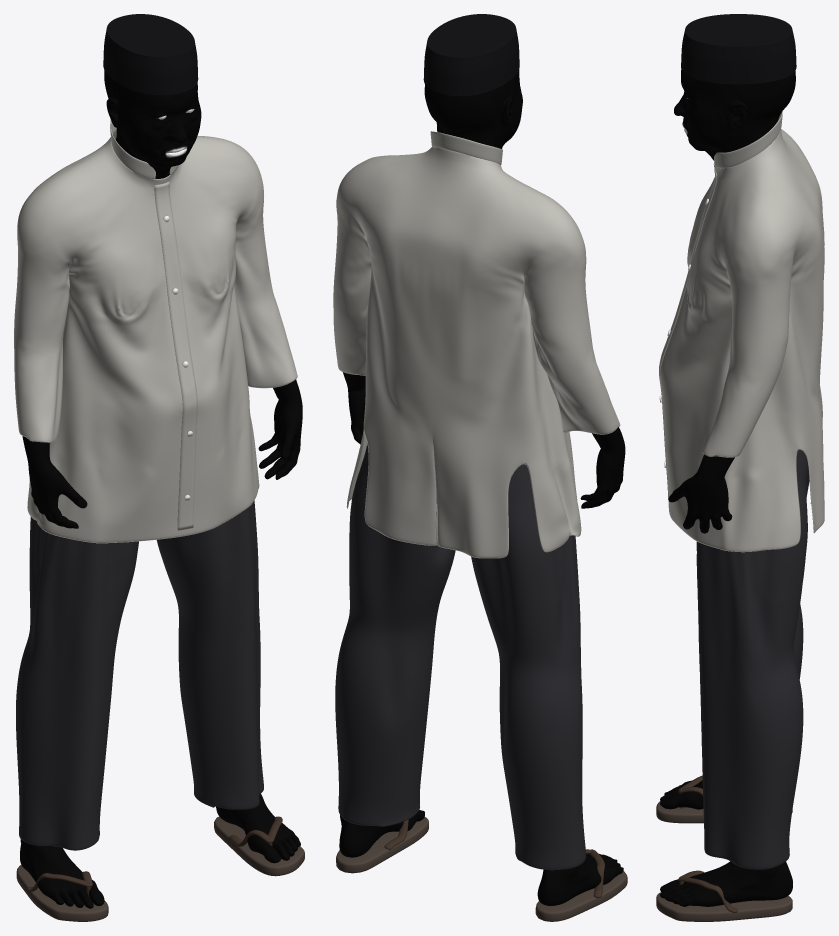
Rendered from sobari.glb.
3 renders of one model, left to right at view 1: azimuth 30°, elevation 25°; view 2: azimuth 150°, elevation 25°; view 3: azimuth 270°, elevation 25°, orthographic.
Visible parts, largest first — view 1: Kemeja, Celana, Badan, Peci, Plaket, SandalAlas, SandalAlas.001, Kerah; view 2: Kemeja, Celana, Badan, Peci, SandalAlas, SandalAlas.001, Kerah; view 3: Kemeja, Celana, Badan, Peci, SandalAlas, Kerah, Plaket, SandalAlas.001, SandalTali.
Part boxes in pixels (x1,y1,x2,y2): Kemeja: (14, 128, 297, 543); Celana: (16, 500, 263, 850); Badan: (20, 70, 302, 908); Peci: (103, 14, 198, 95); Plaket: (154, 181, 197, 530); SandalAlas: (214, 816, 304, 876); SandalAlas.001: (16, 865, 108, 921); Kerah: (110, 120, 177, 178); Kemeja: (333, 147, 620, 558); Celana: (335, 443, 586, 870); Badan: (339, 69, 625, 905); Peci: (423, 14, 519, 96); SandalAlas: (336, 817, 428, 873); SandalAlas.001: (535, 871, 627, 921); Kerah: (430, 131, 502, 164); Kemeja: (660, 129, 824, 552); Celana: (696, 449, 809, 869); Badan: (660, 69, 795, 906); Peci: (681, 14, 796, 84); SandalAlas: (656, 892, 792, 921); Kerah: (714, 111, 782, 168); Plaket: (659, 169, 716, 500); SandalAlas.001: (656, 801, 792, 823); SandalTali: (678, 870, 737, 912).
Bounding box in the file's own units: 0.5535 × 1.62 × 0.298.
9 materials, 2 textured.
